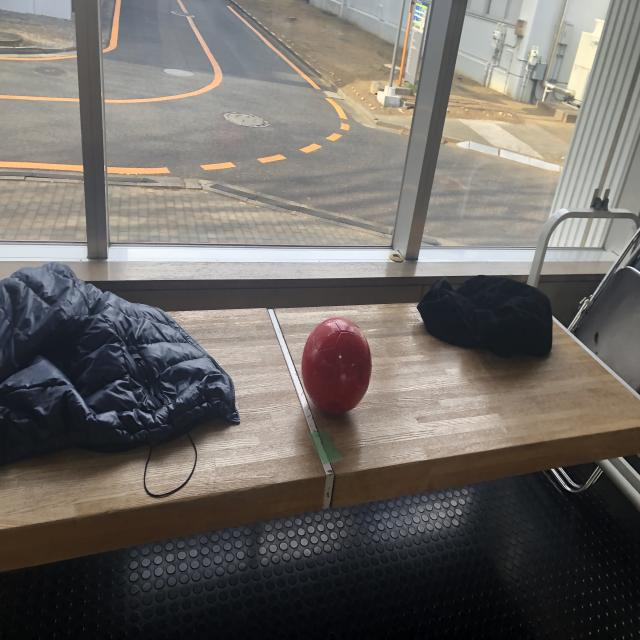red_ball: (299, 318, 372, 412)
